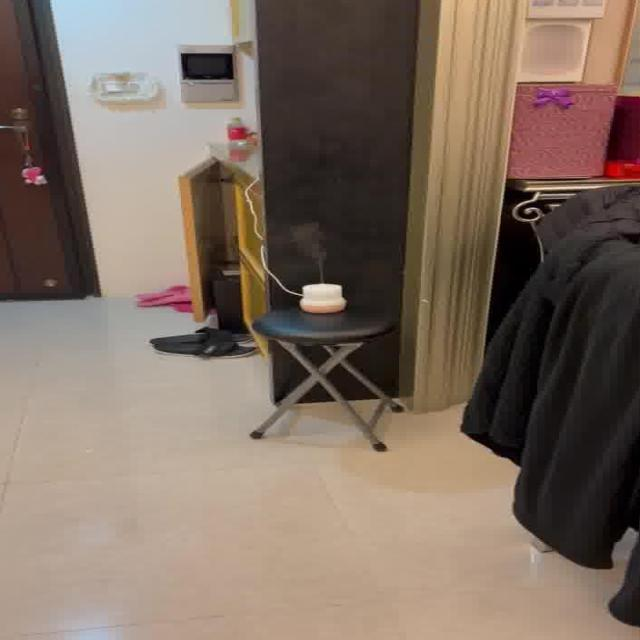fire: (280, 222, 338, 280)
